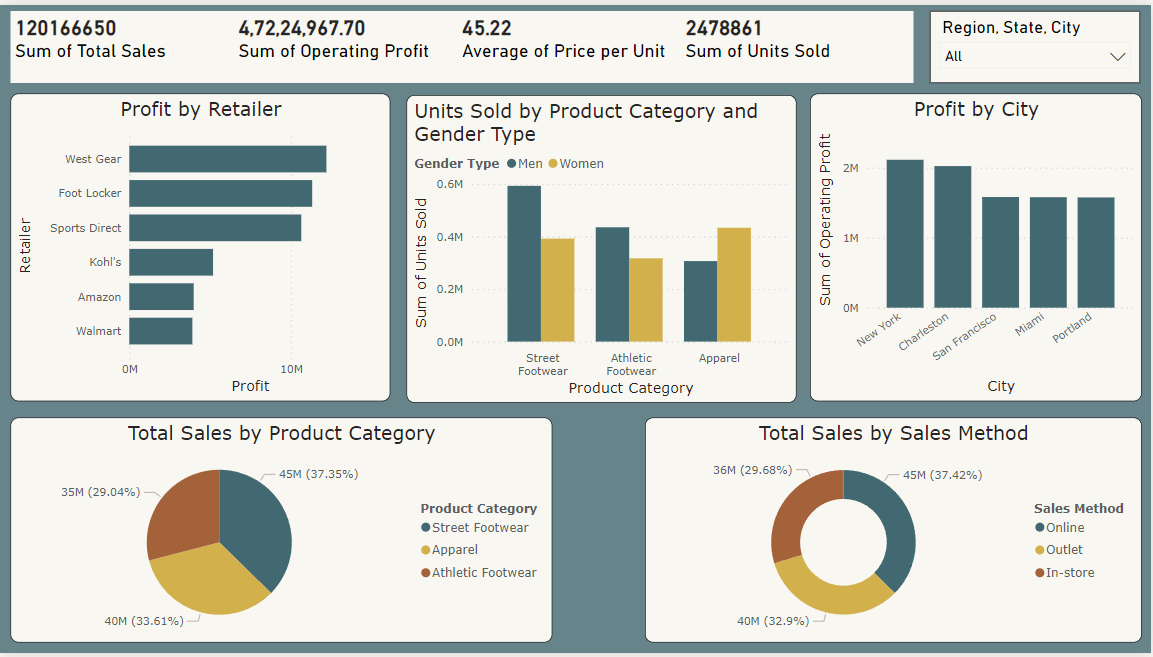

Layout of this report page (visuals, bound fields, positions):
{"tool":"powerbi","page":{"name":"Details","canvas":[1280,720],"ordinal":1},"visuals":[{"type":"multiRowCard","fields":{"Values":["Sum(Sales_details.Total Sales)","Sum(Sales_details.Operating Profit)","Avg(Sales_details.Price per Unit)","Sum(Sales_details.Units Sold)"]},"box":[11.7,6.7,1003.3,80],"z":0},{"type":"barChart","title":"Profit by Retailer","fields":{"Category":["Sales_details.Retailer"],"Y":["Sum(Sales_details.Operating Profit)"]},"box":[11.7,98.3,421.7,341.7],"z":1000},{"type":"pieChart","title":"Total Sales by Product Category","fields":{"Category":["Sales_details.Product Category"],"Y":["Sum(Sales_details.Total Sales)"]},"box":[11.7,458.3,601.7,250],"z":2000},{"type":"clusteredColumnChart","title":"Units Sold by Product Category and Gender Type","fields":{"Category":["Sales_details.Product Category"],"Y":["Sum(Sales_details.Units Sold)"],"Series":["Sales_details.Gender Type"]},"box":[451.7,100,433.3,341.7],"z":3000},{"type":"donutChart","title":"Total Sales by Sales Method","fields":{"Category":["Sales_details.Sales Method"],"Y":["Sum(Sales_details.Total Sales)"]},"box":[716.7,458.3,551.7,250],"z":4000},{"type":"columnChart","title":" Profit by City","fields":{"Category":["Sales_details.City"],"Y":["Sum(Sales_details.Operating Profit)"]},"box":[900,98.3,368.3,341.7],"z":5000},{"type":"slicer","fields":{"Values":["Sales_details.Region","Sales_details.State","Sales_details.City"]},"box":[1033.3,6.7,233.3,80],"z":6000}]}

Visuals, with their boxes in screenshot pixels (x1, y1, x2, y2), scaled from the page's 1280x720 canvas onto the 1153x657 screenshot:
multiRowCard - Sum(Sales_details.Total Sales) x Sum(Sales_details.Operating Profit): <region>11, 6, 914, 79</region>
"Profit by Retailer" barChart: <region>11, 90, 390, 402</region>
"Total Sales by Product Category" pieChart: <region>11, 418, 553, 646</region>
"Units Sold by Product Category and Gender Type" clusteredColumnChart: <region>407, 91, 797, 403</region>
"Total Sales by Sales Method" donutChart: <region>646, 418, 1143, 646</region>
" Profit by City" columnChart: <region>811, 90, 1142, 402</region>
slicer - Sales_details.Region x Sales_details.State: <region>931, 6, 1141, 79</region>
